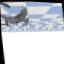drone: (0, 4, 32, 27)
